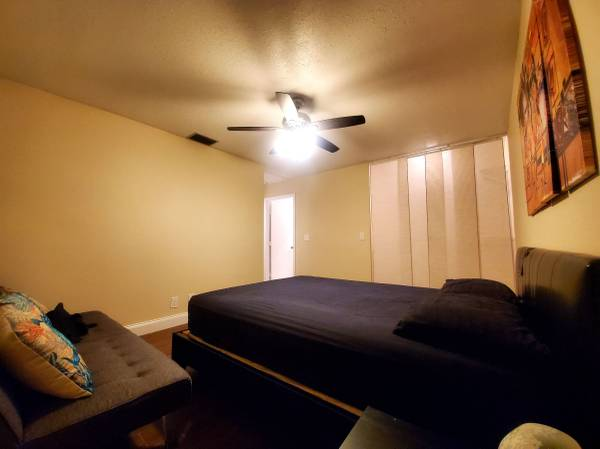bed: (176, 275, 599, 418)
feame: (516, 1, 599, 216)
